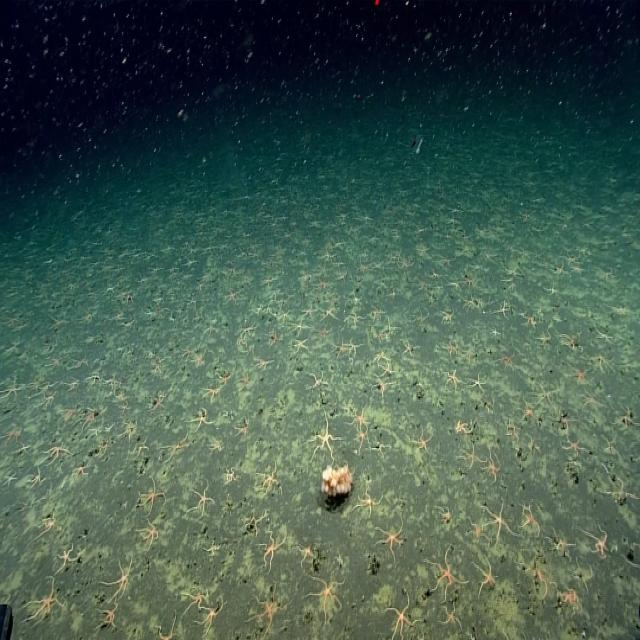brittle-stars: (27, 578, 61, 624), (429, 553, 463, 595), (308, 576, 343, 614), (252, 587, 281, 631), (377, 515, 406, 558), (311, 417, 338, 462), (386, 595, 414, 638), (106, 558, 133, 596), (484, 504, 512, 540), (197, 602, 225, 637), (260, 531, 286, 567), (582, 525, 610, 557), (138, 479, 164, 513), (188, 482, 212, 518), (258, 463, 282, 496), (356, 486, 380, 518), (476, 560, 498, 594), (164, 434, 190, 462), (550, 528, 574, 558), (559, 581, 581, 613), (182, 584, 207, 612), (138, 519, 160, 550), (304, 368, 329, 395), (57, 544, 79, 572), (99, 600, 120, 628), (524, 506, 544, 535), (458, 445, 480, 470), (0, 378, 23, 401), (534, 383, 556, 407), (485, 452, 502, 483), (441, 605, 461, 631), (519, 400, 539, 426), (191, 409, 213, 432), (45, 441, 68, 463), (591, 351, 613, 374), (38, 512, 57, 538), (468, 518, 487, 544), (567, 362, 589, 384), (413, 430, 433, 454), (580, 392, 601, 414), (562, 437, 584, 458), (559, 332, 581, 353), (497, 348, 516, 372), (298, 541, 317, 564), (352, 406, 370, 430), (445, 369, 463, 392), (359, 427, 376, 451), (374, 377, 394, 397), (82, 408, 100, 430), (28, 466, 44, 490), (455, 417, 474, 437), (470, 373, 488, 393), (149, 391, 166, 412), (354, 427, 370, 449), (203, 384, 222, 402), (199, 388, 218, 406), (443, 340, 460, 360), (369, 303, 386, 323), (346, 311, 364, 329), (412, 309, 429, 328), (241, 318, 258, 337), (346, 338, 362, 358), (2, 470, 18, 490), (238, 418, 254, 438), (403, 338, 418, 359), (291, 338, 308, 356), (290, 318, 308, 335), (73, 461, 89, 480), (238, 372, 252, 392), (224, 464, 238, 484), (255, 355, 272, 371), (216, 371, 232, 388), (536, 332, 552, 349), (302, 303, 317, 321), (317, 322, 332, 340), (320, 326, 335, 344), (494, 300, 509, 318), (465, 345, 479, 364), (318, 277, 334, 293), (148, 262, 164, 278), (378, 361, 393, 378), (191, 350, 205, 368), (227, 286, 241, 304), (269, 328, 283, 346), (335, 340, 348, 359), (416, 242, 431, 258), (374, 349, 388, 366), (464, 275, 478, 291), (279, 308, 292, 323), (484, 322, 496, 337), (489, 325, 502, 338), (119, 401, 130, 416), (115, 388, 125, 402)
